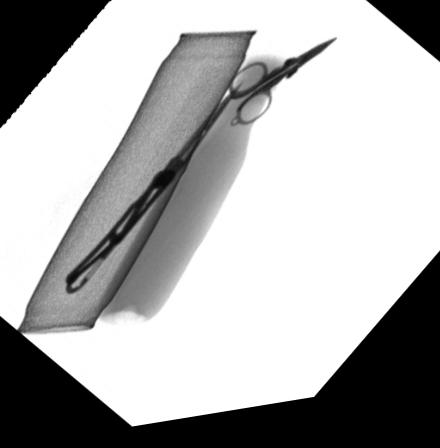Knife: (64, 90, 243, 296)
Scissors: (227, 51, 337, 135)
